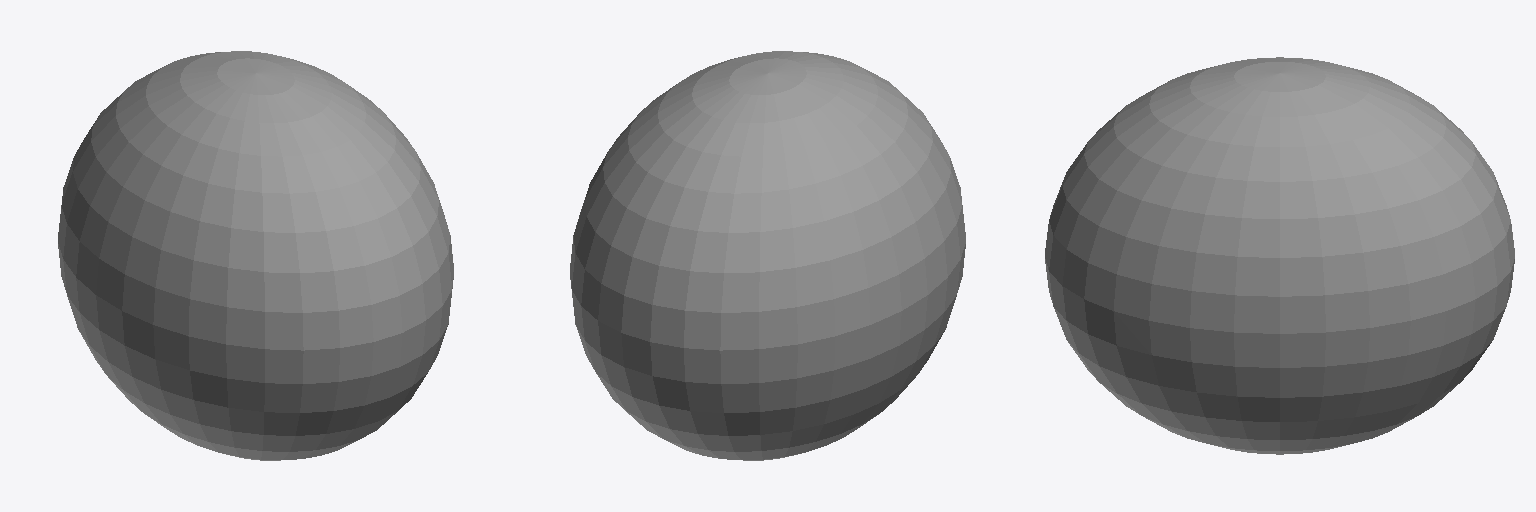
The model's file is shar1.obj.
The picture shows the model from 3 angles: view 1: azimuth 30°, elevation 25°; view 2: azimuth 150°, elevation 25°; view 3: azimuth 270°, elevation 25°; orthographic projection.
Parts seen in each view (by area): view 1: Sphere.001; view 2: Sphere.001; view 3: Sphere.001.
Part boxes in pixels (bbox=[...]): Sphere.001: bbox=[58, 51, 453, 460]; Sphere.001: bbox=[570, 51, 965, 460]; Sphere.001: bbox=[1045, 57, 1514, 454].
Bounding box in the file's own units: 0.187 × 0.2041 × 0.2385.